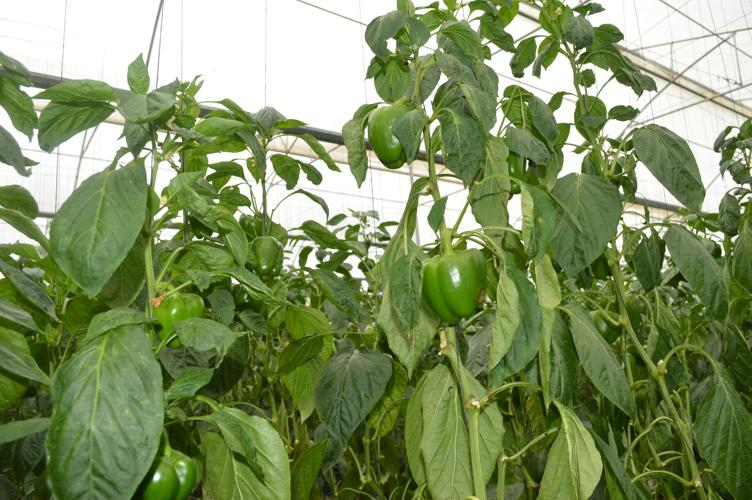BellPepper: (419, 235, 495, 325), (144, 287, 223, 356), (360, 103, 431, 174), (133, 437, 197, 500), (249, 239, 295, 283)
